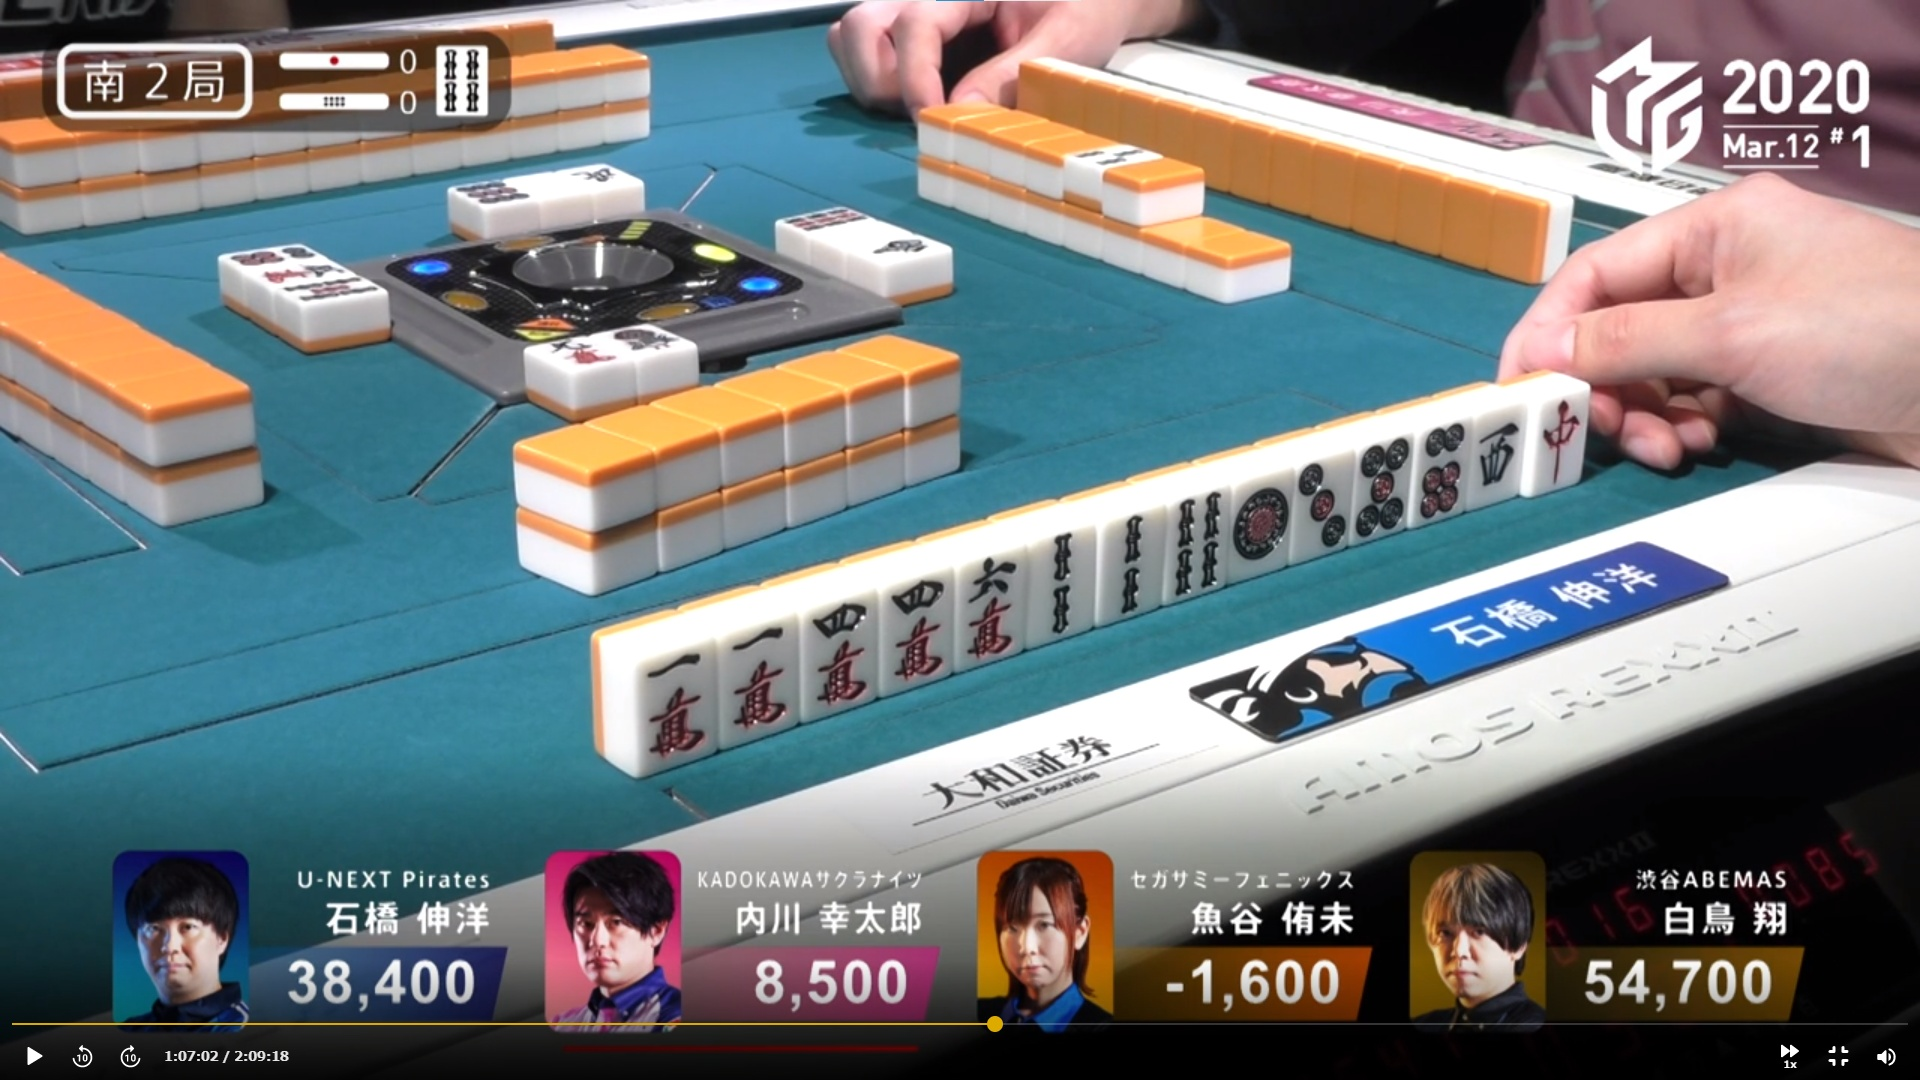1m: (711, 599, 800, 750), (622, 632, 713, 773)
1p: (1230, 458, 1296, 584)
2s: (1025, 512, 1088, 640), (1098, 491, 1156, 622)
3p: (1300, 448, 1345, 554)
4m: (795, 571, 877, 719), (884, 550, 945, 692)
4s: (1163, 473, 1229, 603)
5p: (1352, 419, 1408, 549)
6m: (953, 535, 1025, 665)
6p: (1408, 394, 1476, 525)
chun: (1528, 369, 1582, 492)
hand_nan_2: (44, 33, 269, 124)
round_0: (265, 79, 419, 116)
sha: (1472, 388, 1522, 502)
team_pirates: (1174, 624, 1440, 748)
